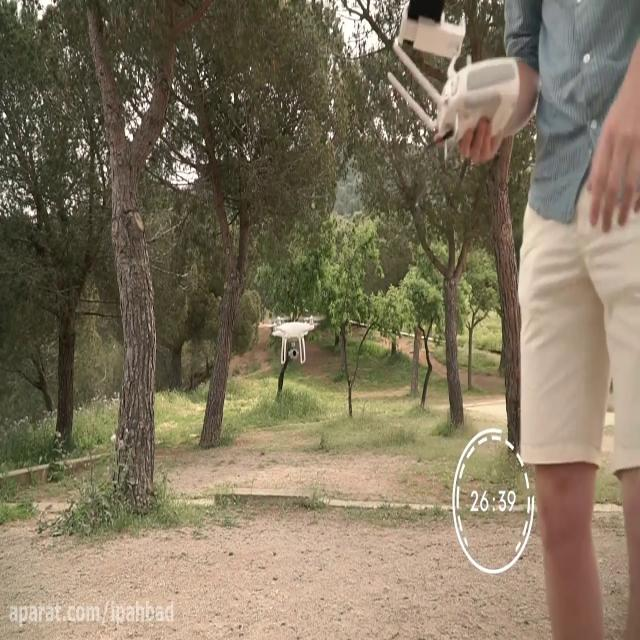drone: (267, 308, 325, 366)
